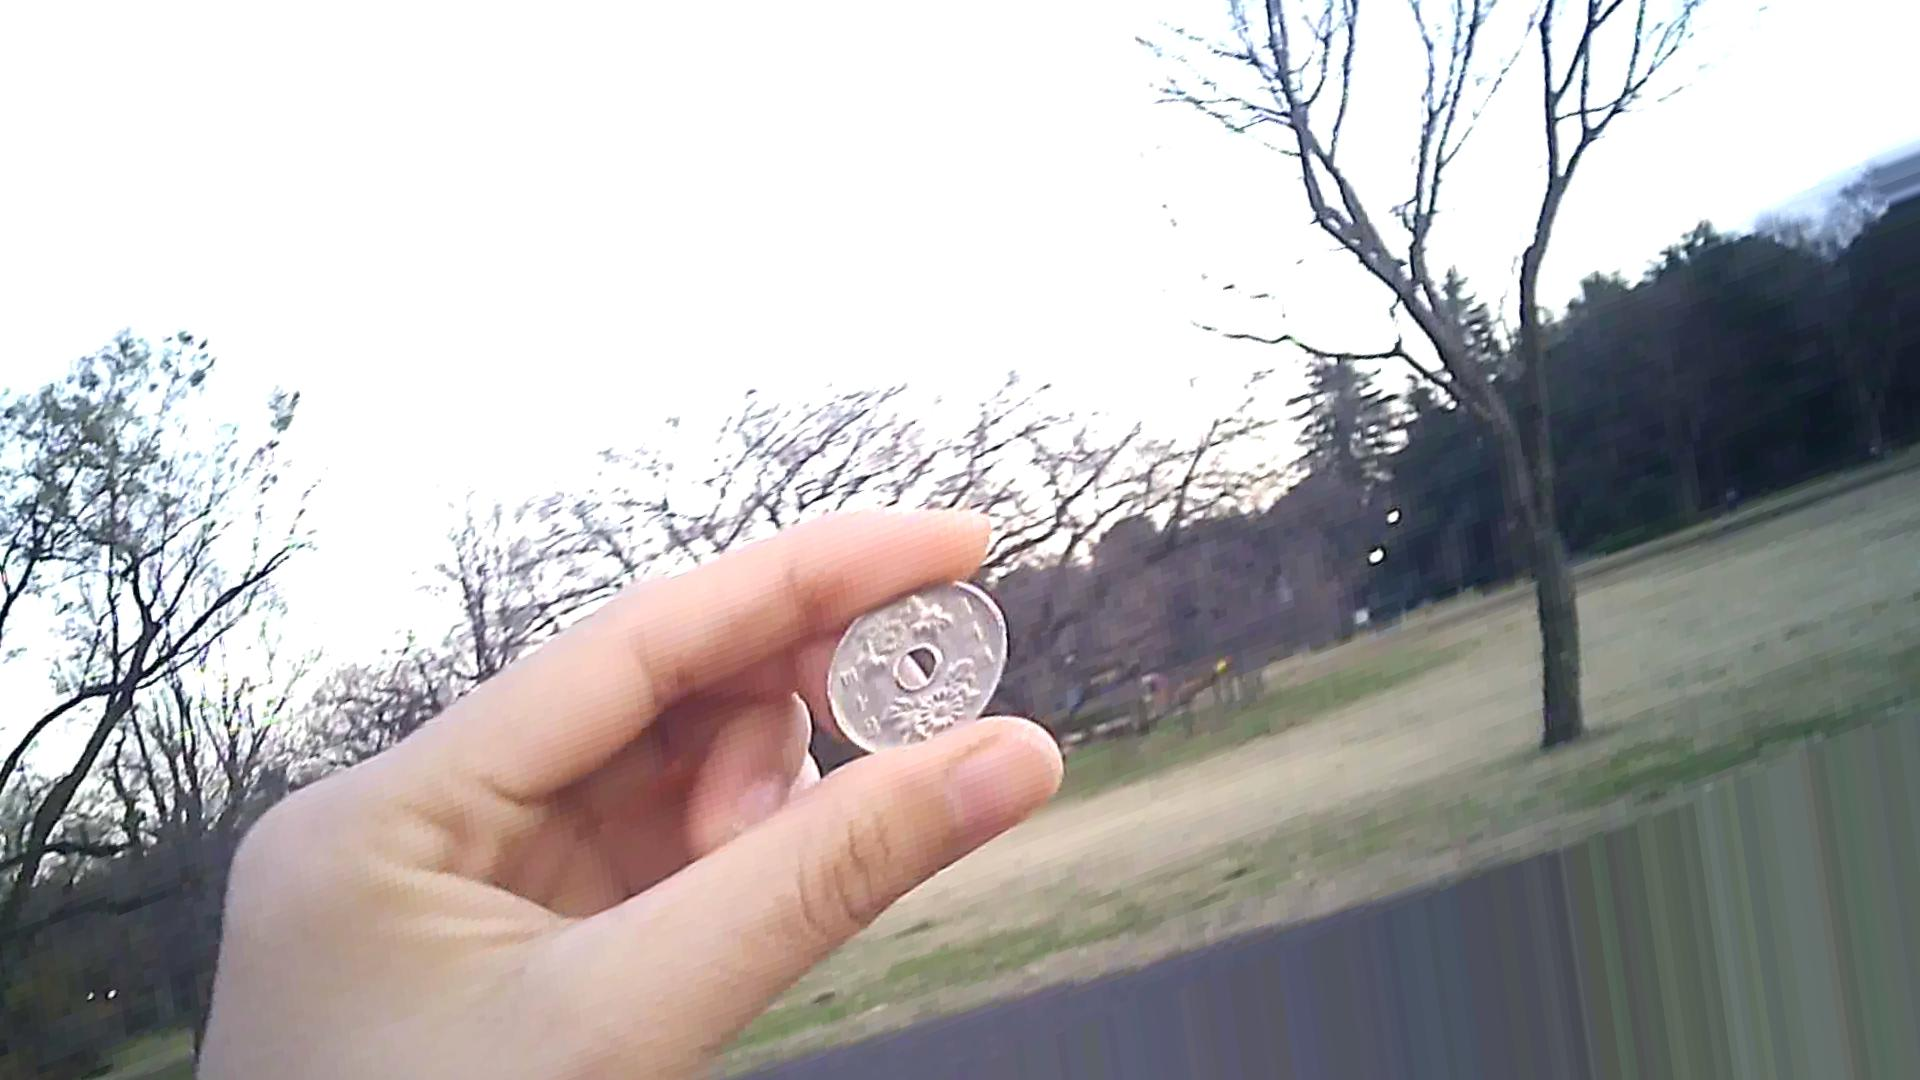50 Yen: (815, 570, 1015, 752)
